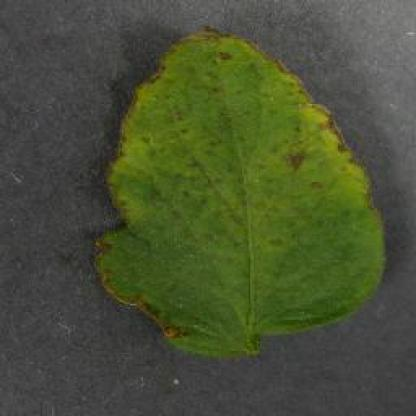bad leaf: (74, 7, 372, 301), (25, 130, 307, 408), (34, 79, 328, 242), (264, 85, 412, 328)
